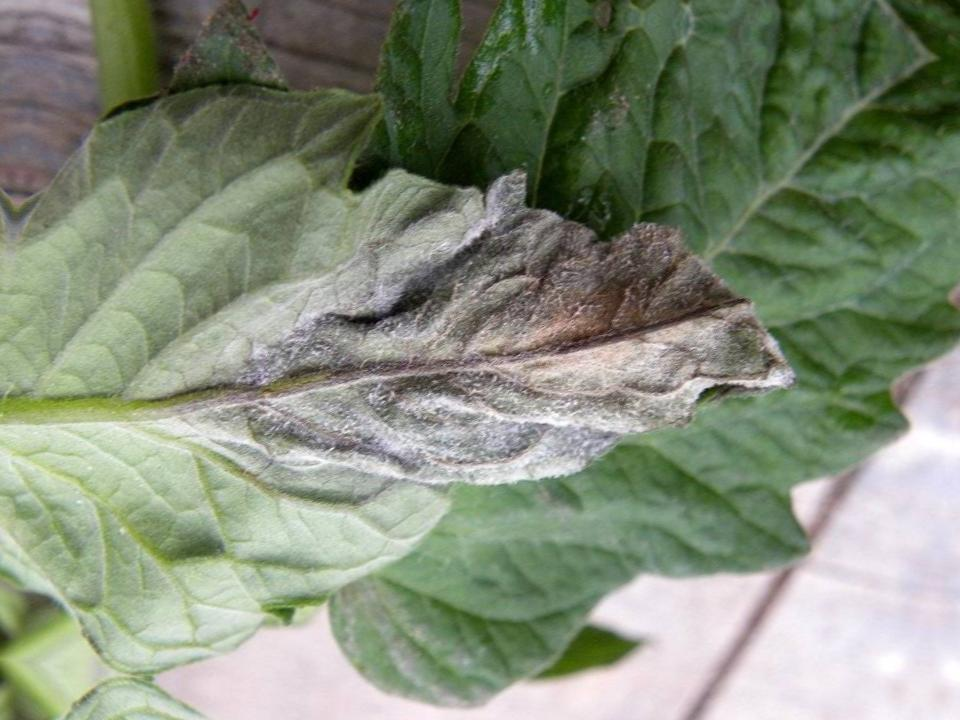Tomato leaf late blight: (0, 47, 838, 720)
